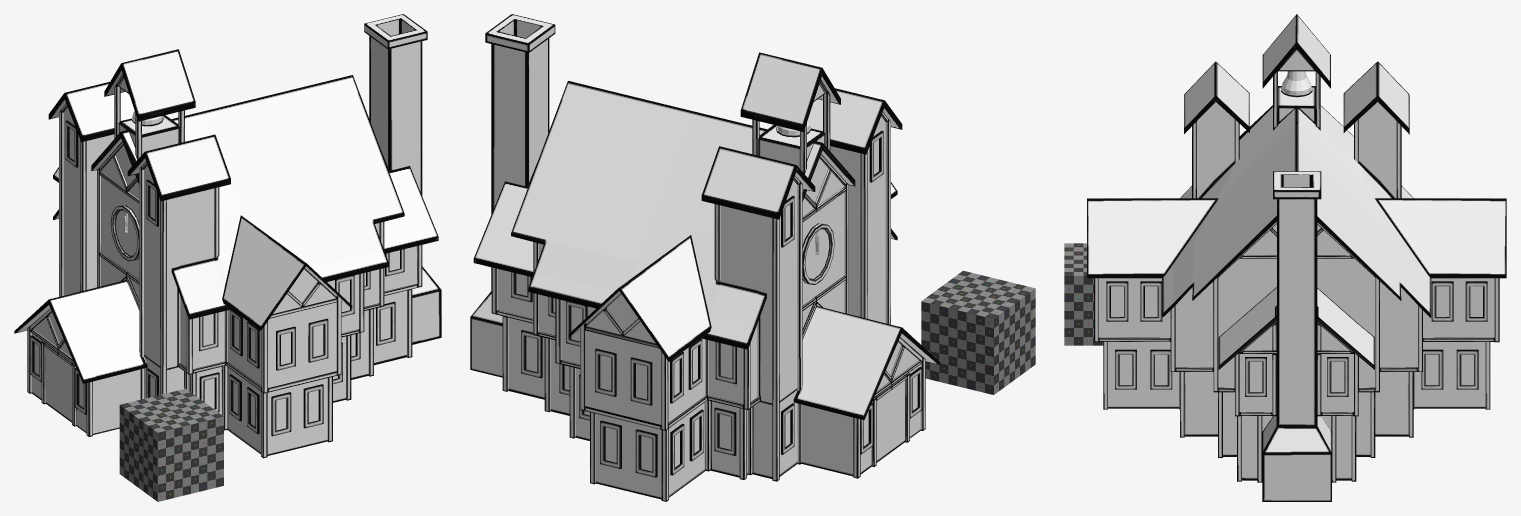
File: SM_Townhall.fbx
The picture shows the model from 3 angles, left to right: view 1: azimuth 30°, elevation 25°; view 2: azimuth 150°, elevation 25°; view 3: azimuth 270°, elevation 25°; orthographic projection. The views are drawn at different scales.
Parts seen in each view (by area): view 1: SM_Townhall, ReferenceCube; view 2: SM_Townhall, ReferenceCube; view 3: SM_Townhall, ReferenceCube.
Boxes of the visible parts, left/top/right/bottom form: SM_Townhall: left=14, top=14, right=441, bottom=458; ReferenceCube: left=119, top=388, right=223, bottom=501; SM_Townhall: left=470, top=14, right=939, bottom=501; ReferenceCube: left=921, top=270, right=1035, bottom=394; SM_Townhall: left=1087, top=14, right=1506, bottom=501; ReferenceCube: left=1064, top=243, right=1103, bottom=345.
Bounding box in the file's own units: 578 × 486 × 575.
